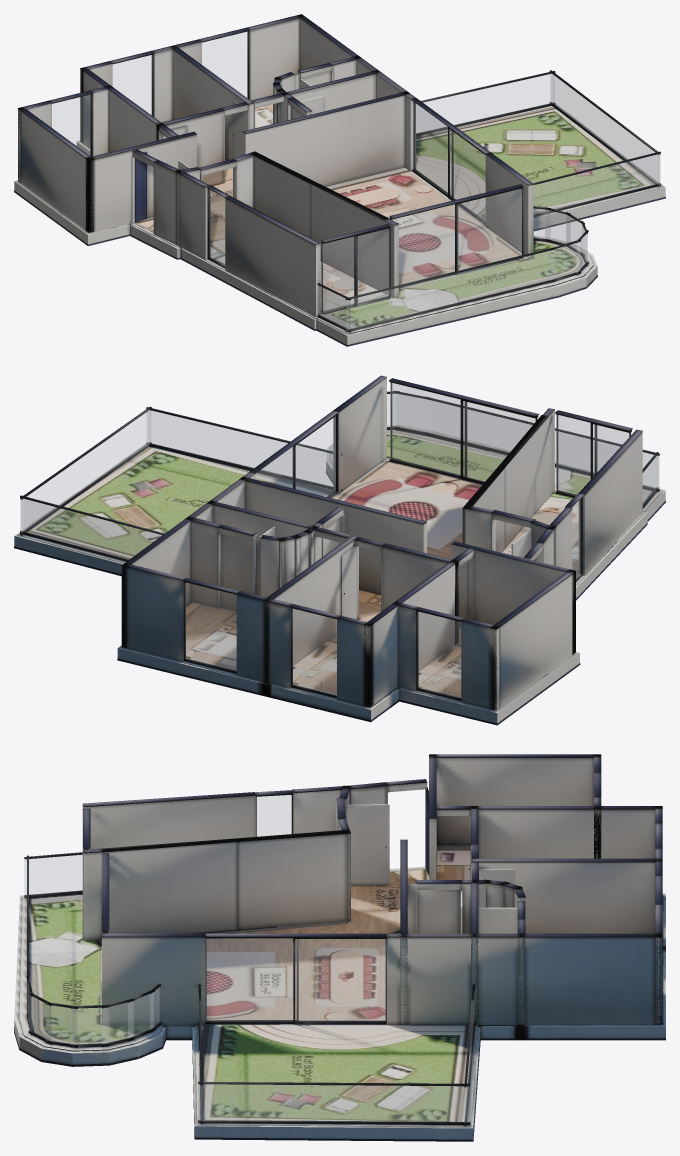
The picture shows the model from 3 angles, top to bottom: view 1: azimuth 30°, elevation 25°; view 2: azimuth 150°, elevation 25°; view 3: azimuth 270°, elevation 25°; orthographic projection. The views are drawn at different scales.
Parts seen in each view (by area): view 1: plan, glass5_m, railg10_m, glass4_m, glass6_m, railg0_m, railg2_m, railg1_m, glass2_m, glass1_m, glass0_m, glass3_m (+3 smaller); view 2: plan, glass5_m, railg2_m, railg10_m, railg1_m, railg0_m, glass2_m, glass6_m, glass1_m, glass4_m, glass0_m, railg9_m (+1 smaller); view 3: plan, glass4_m, railg1_m, railg11_m, glass3_m, railg6_m, railg7_m, railg5_m, railg4_m, railg8_m.
Boxes of the visible parts, x1,y1,x2,y2 form: plan: [14, 14, 665, 346]; glass5_m: [392, 189, 521, 284]; railg10_m: [346, 250, 554, 329]; glass4_m: [413, 102, 485, 220]; glass6_m: [322, 229, 388, 311]; railg0_m: [416, 74, 554, 133]; railg2_m: [534, 154, 660, 214]; railg1_m: [551, 74, 659, 184]; glass2_m: [202, 32, 247, 97]; glass1_m: [113, 55, 152, 114]; glass0_m: [52, 95, 90, 155]; glass3_m: [209, 189, 224, 265]; plan: [14, 375, 665, 725]; glass5_m: [390, 383, 535, 481]; railg2_m: [147, 410, 332, 486]; railg10_m: [431, 401, 659, 488]; railg1_m: [21, 410, 150, 532]; railg0_m: [20, 499, 161, 559]; glass2_m: [185, 582, 236, 670]; glass6_m: [556, 414, 631, 495]; glass1_m: [292, 609, 336, 695]; glass4_m: [255, 416, 335, 496]; glass0_m: [418, 612, 460, 698]; railg9_m: [397, 394, 425, 431]; plan: [14, 754, 665, 1141]; glass4_m: [205, 938, 385, 1021]; railg1_m: [198, 1084, 469, 1122]; railg11_m: [24, 855, 82, 895]; glass3_m: [257, 795, 291, 836]; railg6_m: [71, 1007, 108, 1044]; railg7_m: [46, 1005, 77, 1044]; railg5_m: [102, 1001, 133, 1043]; railg4_m: [128, 992, 153, 1038]; railg8_m: [29, 995, 51, 1041].
Bounding box in the file's own units: 15.81 × 2.62 × 15.19.
2 materials, 1 textured.
